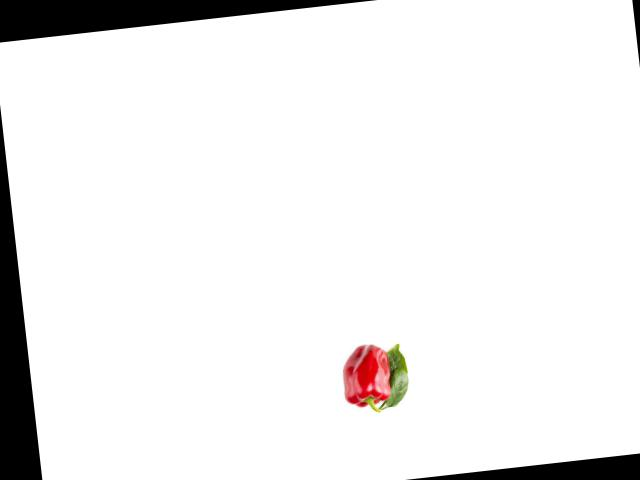bell_pepper: (333, 339, 397, 415)
